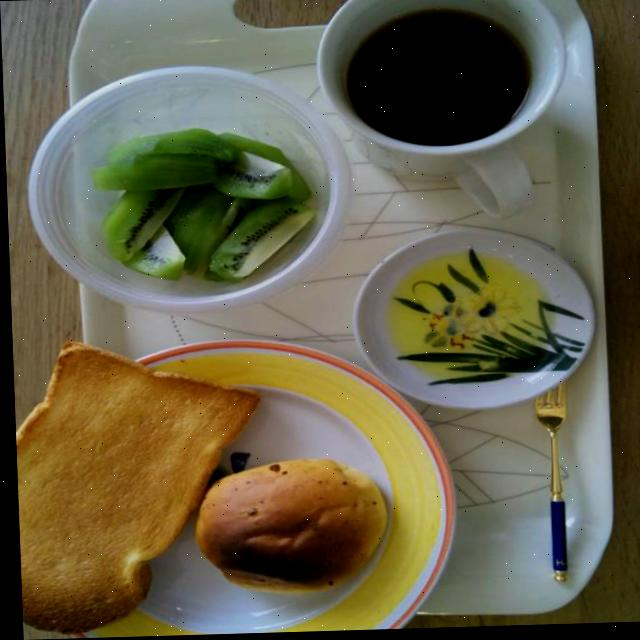面包点心: (9, 321, 250, 640)
